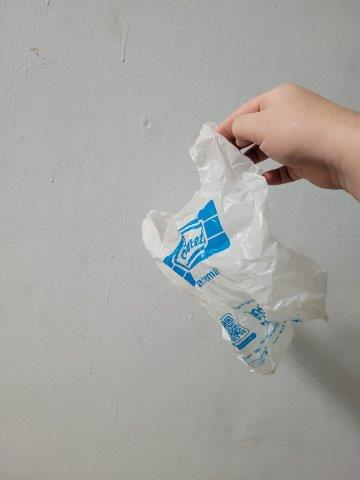plastik: (141, 120, 329, 375)
